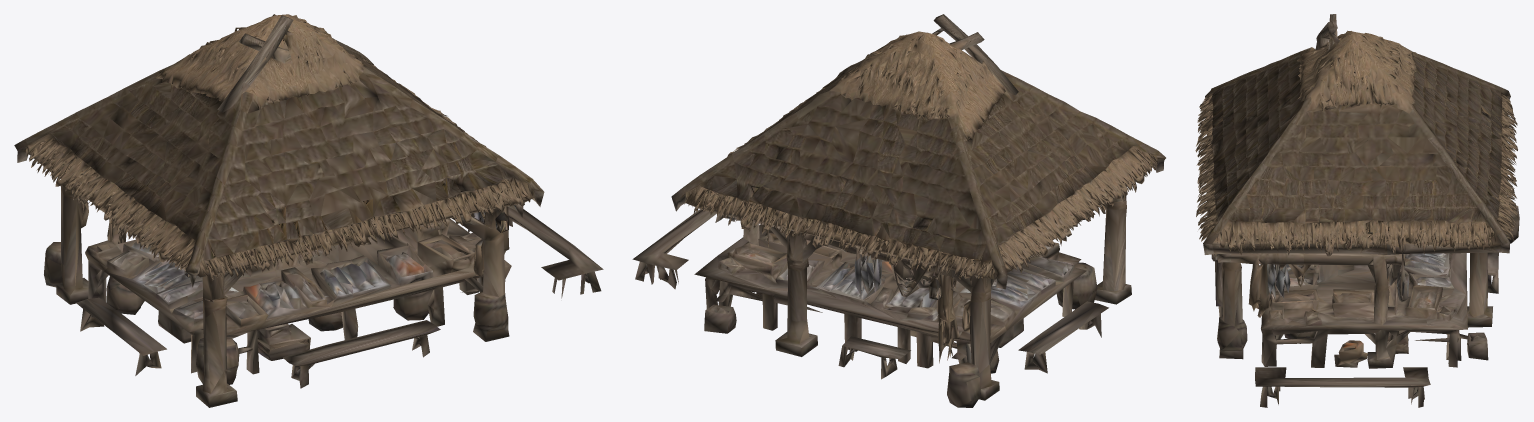
The model's file is targ_rybny.glb.
3 views of the same model, side by side, from view 1: azimuth 30°, elevation 25°; view 2: azimuth 150°, elevation 25°; view 3: azimuth 270°, elevation 25° (orthographic). The views are drawn at different scales.
Visible parts, largest first — view 1: Mesh_0; view 2: Mesh_0; view 3: Mesh_0.
Part boxes in pixels (bbox=[...]): Mesh_0: bbox=[14, 14, 603, 407]; Mesh_0: bbox=[632, 14, 1165, 407]; Mesh_0: bbox=[1195, 14, 1519, 407].
Bounding box in the file's own units: 1.9 × 1.27 × 1.38.
Materials: 1 (1 with a texture image).
